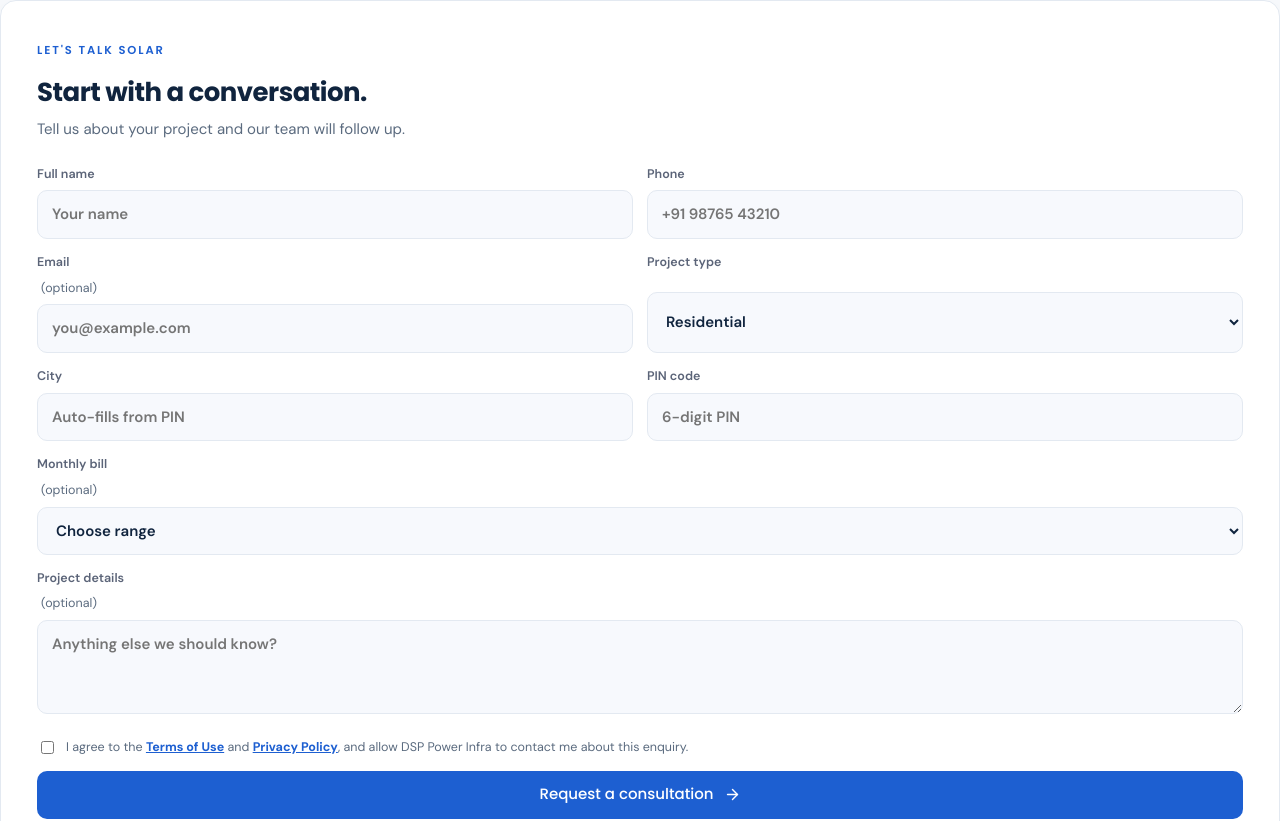
Scenario: LeadForm › TC-FORM-02: serviceable PIN shows a positive note while typing
The image size is (1280, 821).
Step 1. Type "411046" into the field labelled "PIN code" → (945, 417), box [647,392,1243,441]
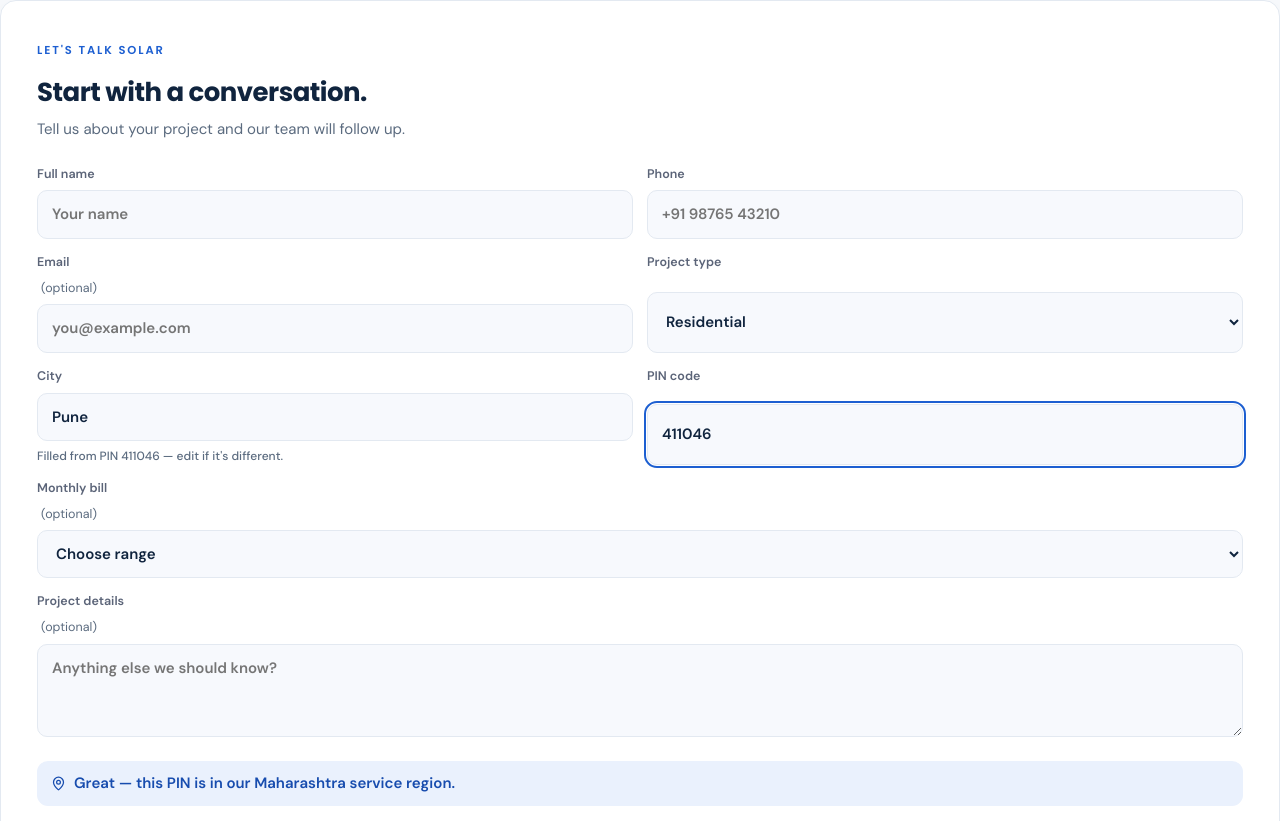
Result: the text "Great — this PIN is in our Maharashtra service region." is shown at [37,761,1243,806]
Step 2. Clear the field labelled "PIN code" → (945, 435), box [647,404,1243,465]
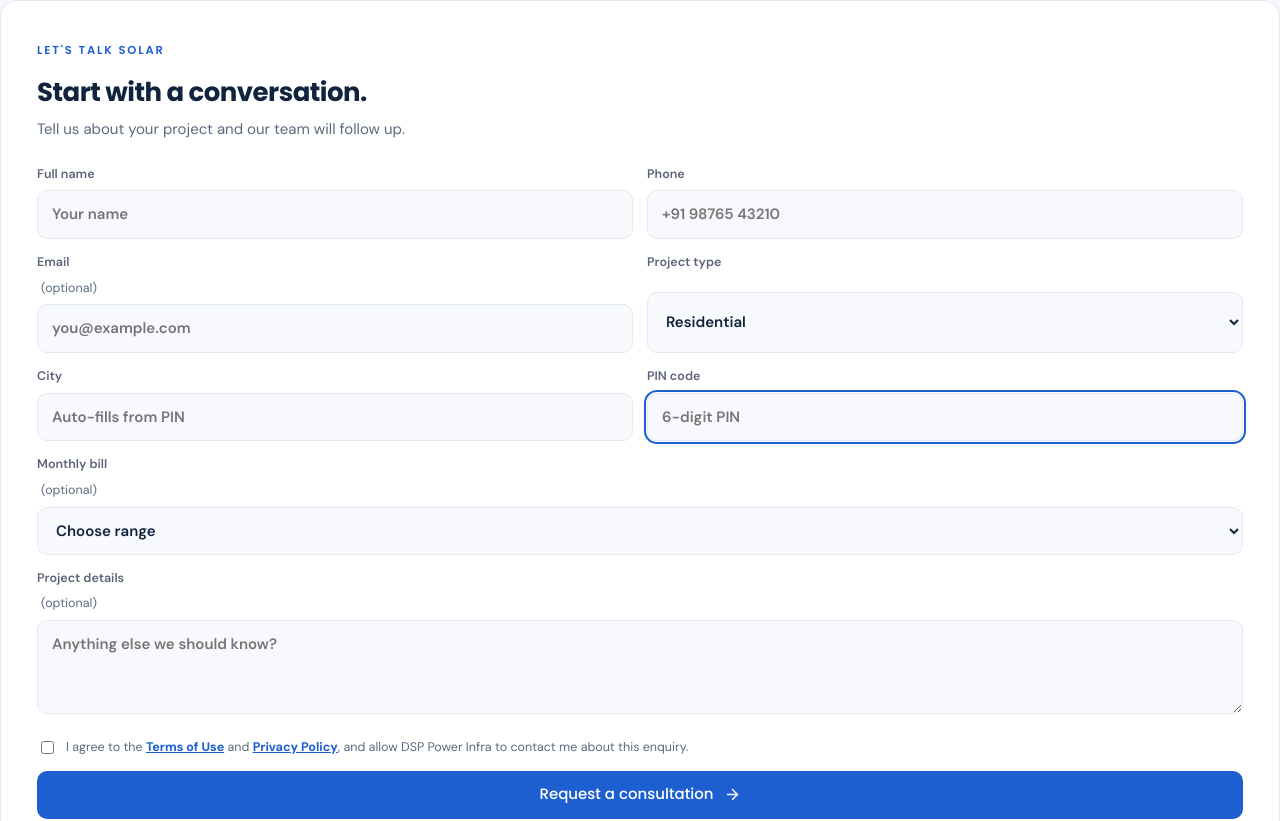
Step 3. Type "452001" into the field labelled "PIN code" → (945, 417), box [647,392,1243,441]
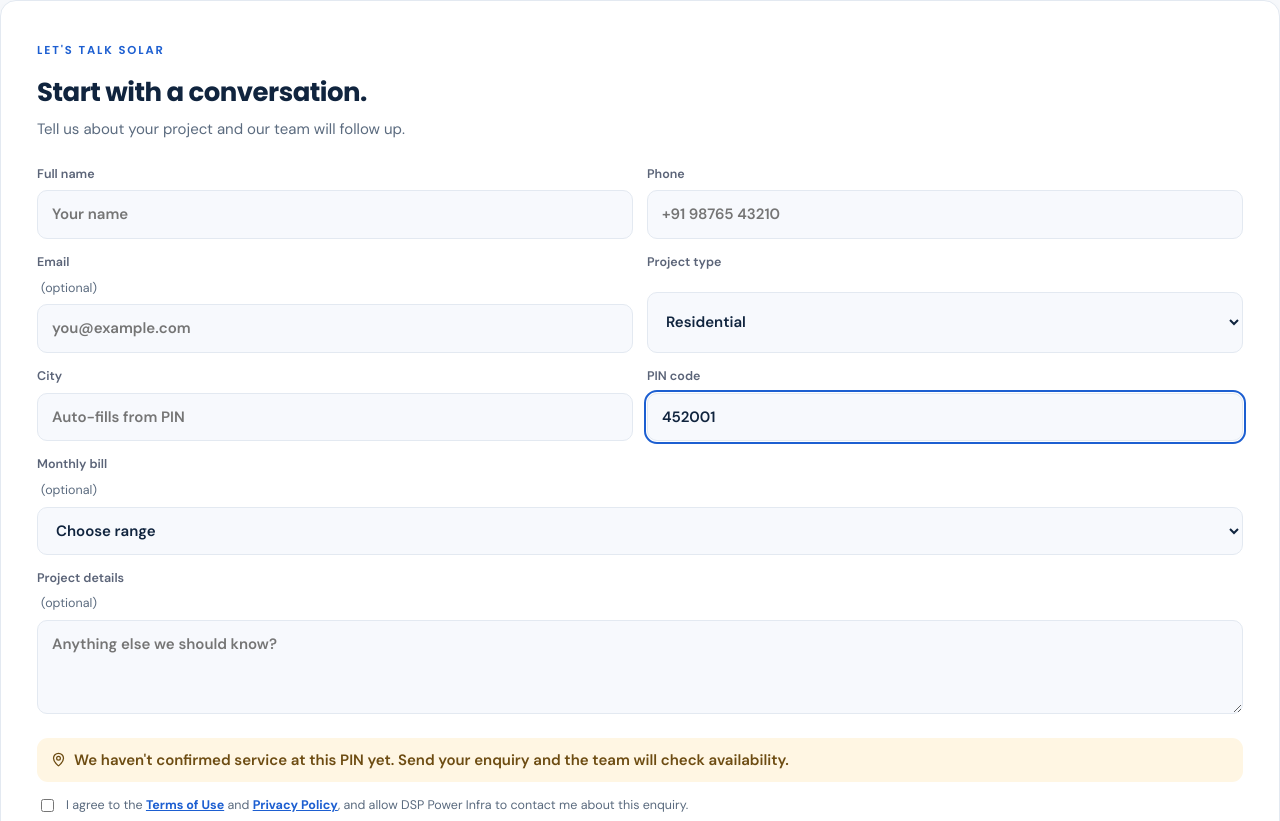
Result: the text "haven't confirmed service" is shown at [74,750,789,770]
